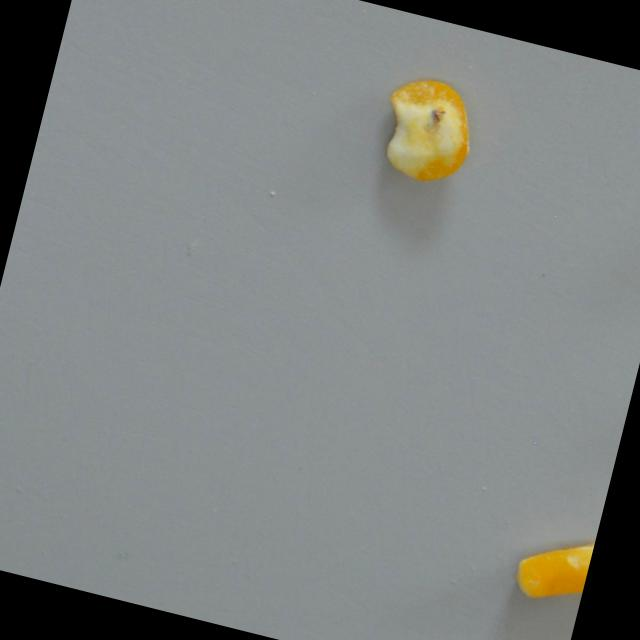dañado: (369, 70, 488, 193)
estandar: (505, 498, 601, 628)
